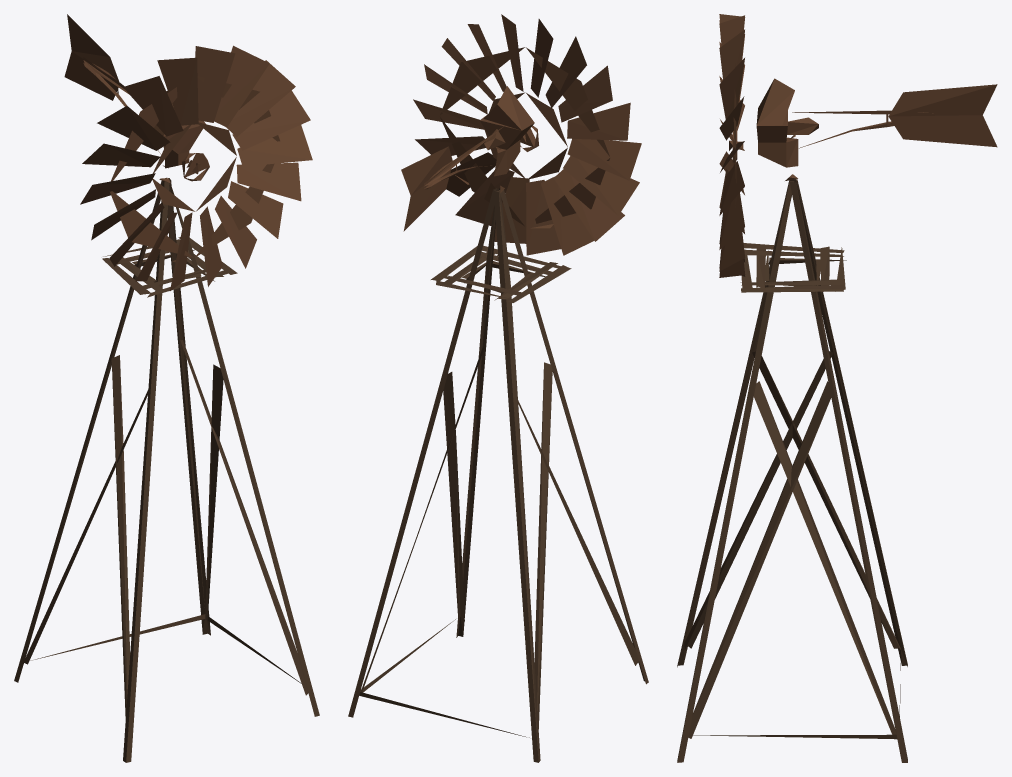
Rendered from wind-pump.lod2.glb.
The picture shows the model from 3 angles, left to right: view 1: azimuth 30°, elevation 25°; view 2: azimuth 150°, elevation 25°; view 3: azimuth 270°, elevation 25°; orthographic projection. The views are drawn at different scales.
Visible parts, largest first — view 1: unterStrebe_1_low_MA_Windrad_Bottom_0; view 2: unterStrebe_1_low_MA_Windrad_Bottom_0; view 3: unterStrebe_1_low_MA_Windrad_Bottom_0.
Boxes of the visible parts, <box> form: unterStrebe_1_low_MA_Windrad_Bottom_0: <box>14,14,319,762</box>; unterStrebe_1_low_MA_Windrad_Bottom_0: <box>348,14,648,762</box>; unterStrebe_1_low_MA_Windrad_Bottom_0: <box>677,14,997,762</box>.
Size of the model in its own units: 4.15 by 12 by 5.06.
